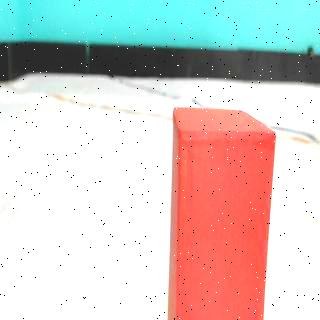redbox: (167, 106, 276, 320)
